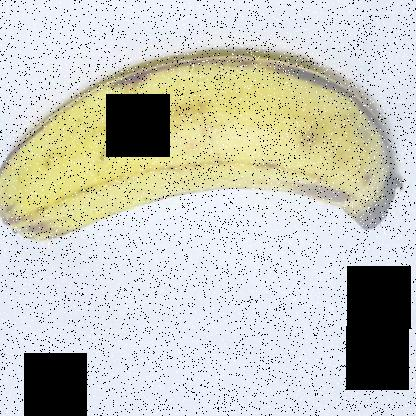ripe: (0, 37, 415, 268)
